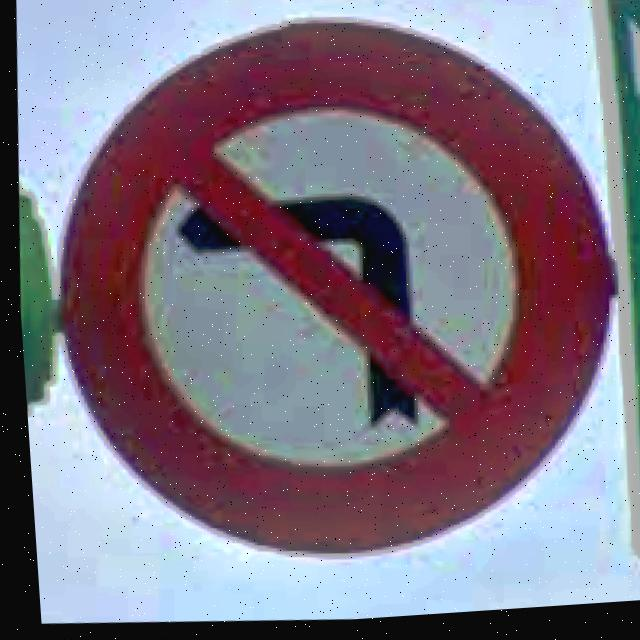noturnleft: (54, 25, 607, 564)
